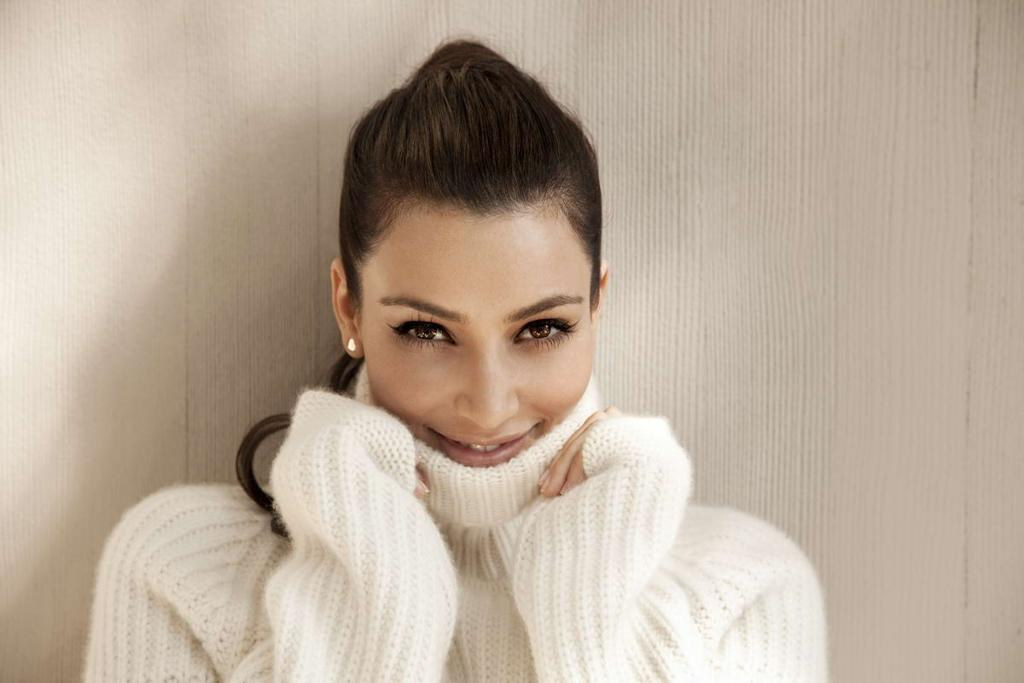face: (362, 200, 594, 484)
